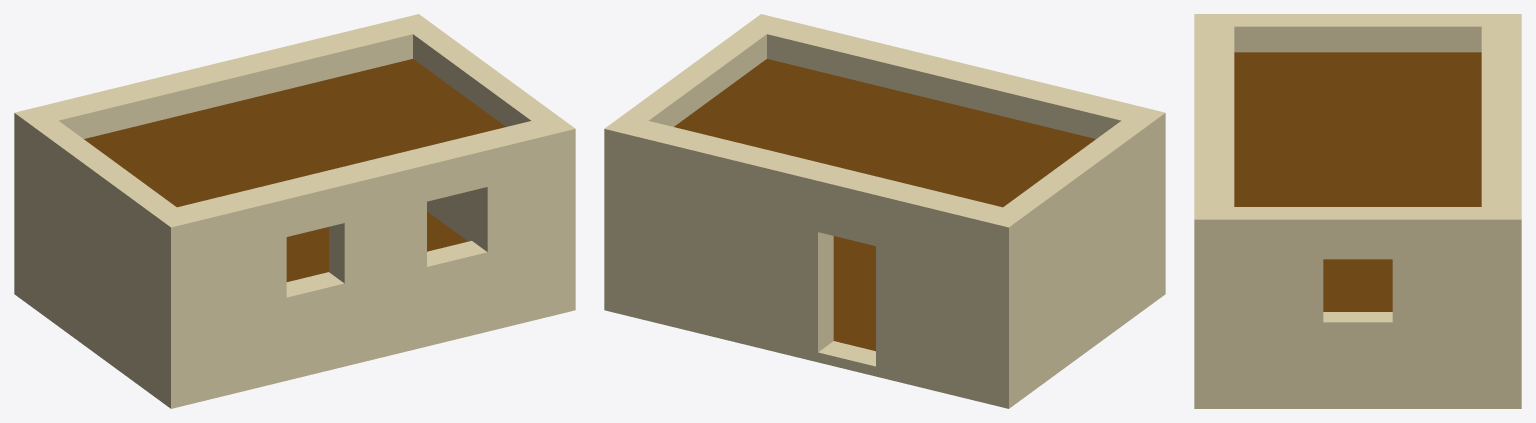
Rendered from shoe_box.glb.
3 views of the same model, side by side, from view 1: azimuth 30°, elevation 25°; view 2: azimuth 150°, elevation 25°; view 3: azimuth 270°, elevation 25° (orthographic). The views are drawn at different scales.
Visible parts, largest first — view 1: shoe_box; view 2: shoe_box; view 3: shoe_box.
Boxes of the visible parts, x1,y1,x2,y2 form: shoe_box: (14, 14, 575, 408); shoe_box: (604, 14, 1165, 408); shoe_box: (1194, 14, 1521, 408).
Size of the model in its own units: 7 by 3 by 4.7.
